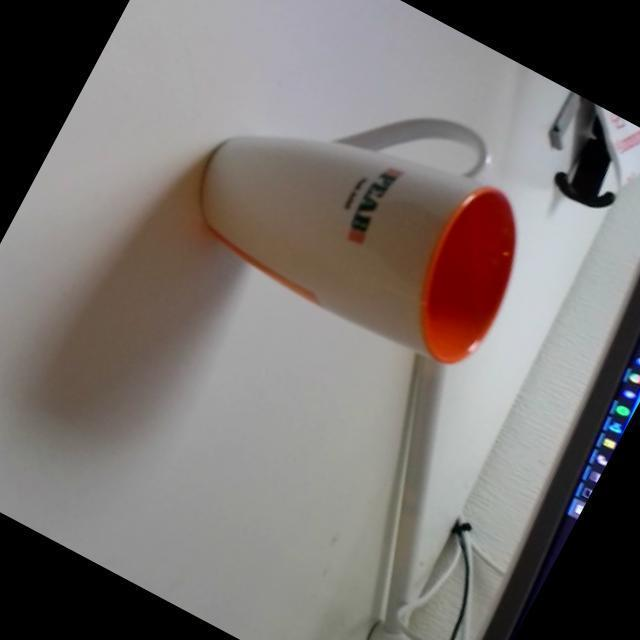cup: (155, 17, 578, 392)
